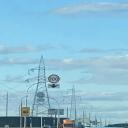speed_limit_100: (46, 72, 62, 84)
